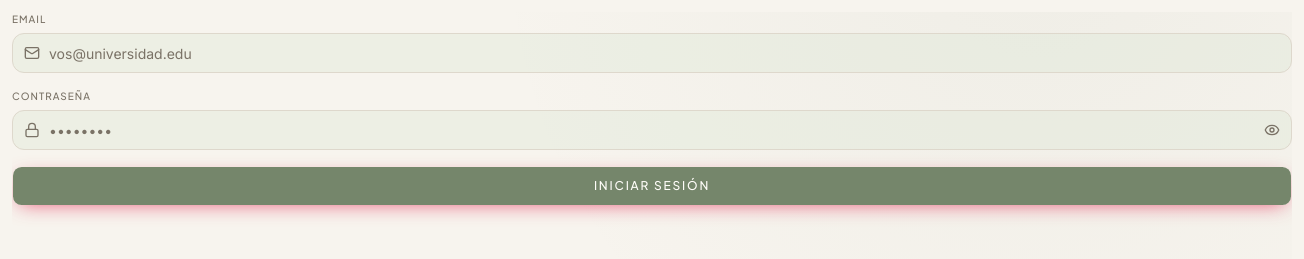
Test: LoginForm › muestra error de password requerido
Step 1. Type "test@test.com" into the field labelled "Email" → {"x": 652, "y": 53}, box x1=12 y1=33 x2=1292 y2=73
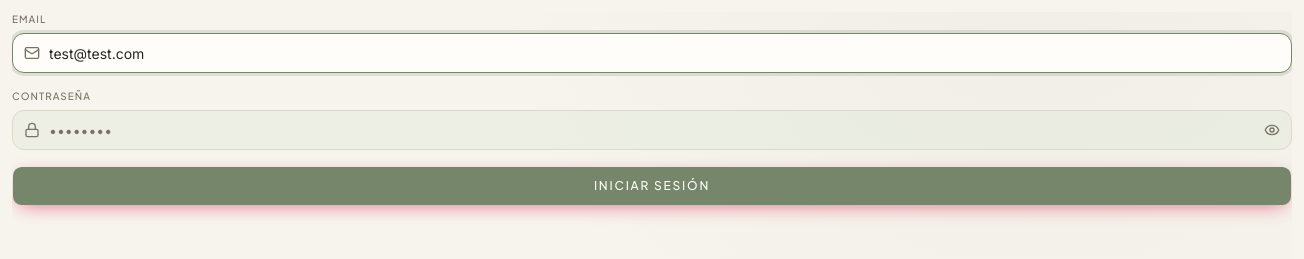
Step 2. Click the button "Iniciar Sesión" → {"x": 652, "y": 186}, box x1=12 y1=166 x2=1292 y2=206
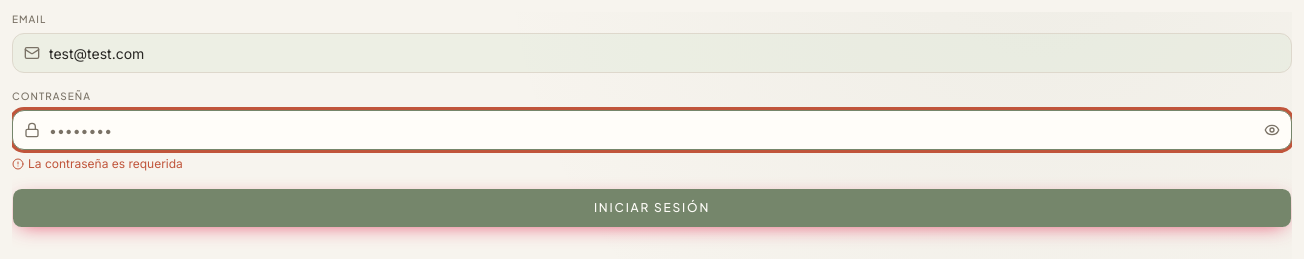
expect the text "La contraseña es requerida" is shown: met, box x1=12 y1=156 x2=183 y2=171
